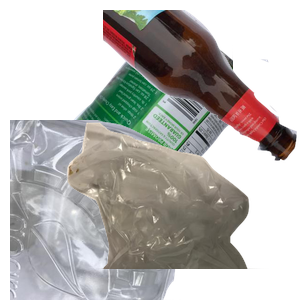glass: (103, 10, 300, 163)
metal: (60, 23, 300, 203)
plastic: (10, 120, 197, 300)
trash: (65, 120, 300, 300)
